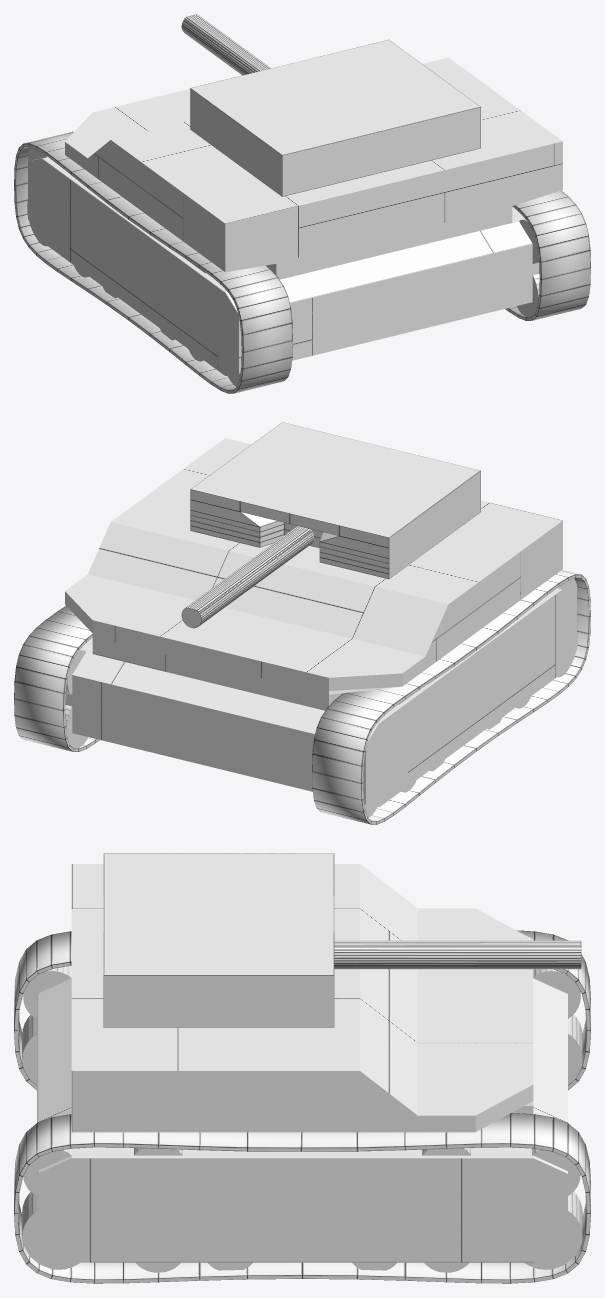
File: tank.fbx
3 renders of one model, top to bottom at view 1: azimuth 30°, elevation 25°; view 2: azimuth 150°, elevation 25°; view 3: azimuth 270°, elevation 25°, orthographic. The views are drawn at different scales.
Parts seen in each view (by area): view 1: TANK_BODY, Cube, TRACK_RIGHT, TRACK_LEFT; view 2: TANK_BODY, Cube, TRACK_RIGHT, TRACK_LEFT; view 3: TANK_BODY, Cube, TRACK_LEFT, TRACK_RIGHT, Cylinder.018, Cylinder.017, Cylinder.003, Cylinder, Cylinder.001, Cylinder.002, Cylinder.016, Cylinder.019.
Boxes of the visible parts, x1=… form: TANK_BODY: x1=28, y1=57, x2=562, y2=375; Cube: x1=181, y1=14, x2=480, y2=196; TRACK_RIGHT: x1=14, y1=131, x2=292, y2=393; TRACK_LEFT: x1=505, y1=190, x2=590, y2=320; TANK_BODY: x1=65, y1=438, x2=576, y2=806; Cube: x1=181, y1=422, x2=480, y2=628; TRACK_RIGHT: x1=312, y1=570, x2=590, y2=824; TRACK_LEFT: x1=14, y1=606, x2=99, y2=751; TANK_BODY: x1=37, y1=864, x2=567, y2=1262; Cube: x1=103, y1=853, x2=581, y2=1027; TRACK_LEFT: x1=14, y1=1113, x2=590, y2=1283; TRACK_RIGHT: x1=14, y1=930, x2=590, y2=1089; Cylinder.018: x1=525, y1=1191, x2=582, y2=1269; Cylinder.017: x1=22, y1=1192, x2=79, y2=1269; Cylinder.003: x1=23, y1=965, x2=71, y2=1019; Cylinder: x1=533, y1=969, x2=580, y2=1018; Cylinder.001: x1=568, y1=1014, x2=582, y2=1085; Cylinder.002: x1=22, y1=1015, x2=36, y2=1085; Cylinder.016: x1=23, y1=1148, x2=71, y2=1196; Cylinder.019: x1=532, y1=1148, x2=580, y2=1195.
Bounding box in the file's own units: 3.5 × 2.01 × 4.
